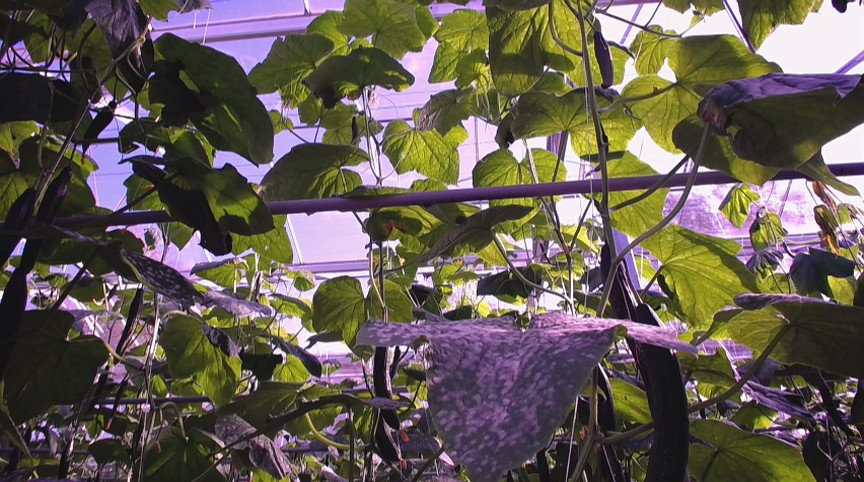cucumber: (634, 305, 691, 482), (21, 166, 75, 271), (1, 188, 35, 267), (1, 269, 27, 372), (372, 346, 400, 430)
